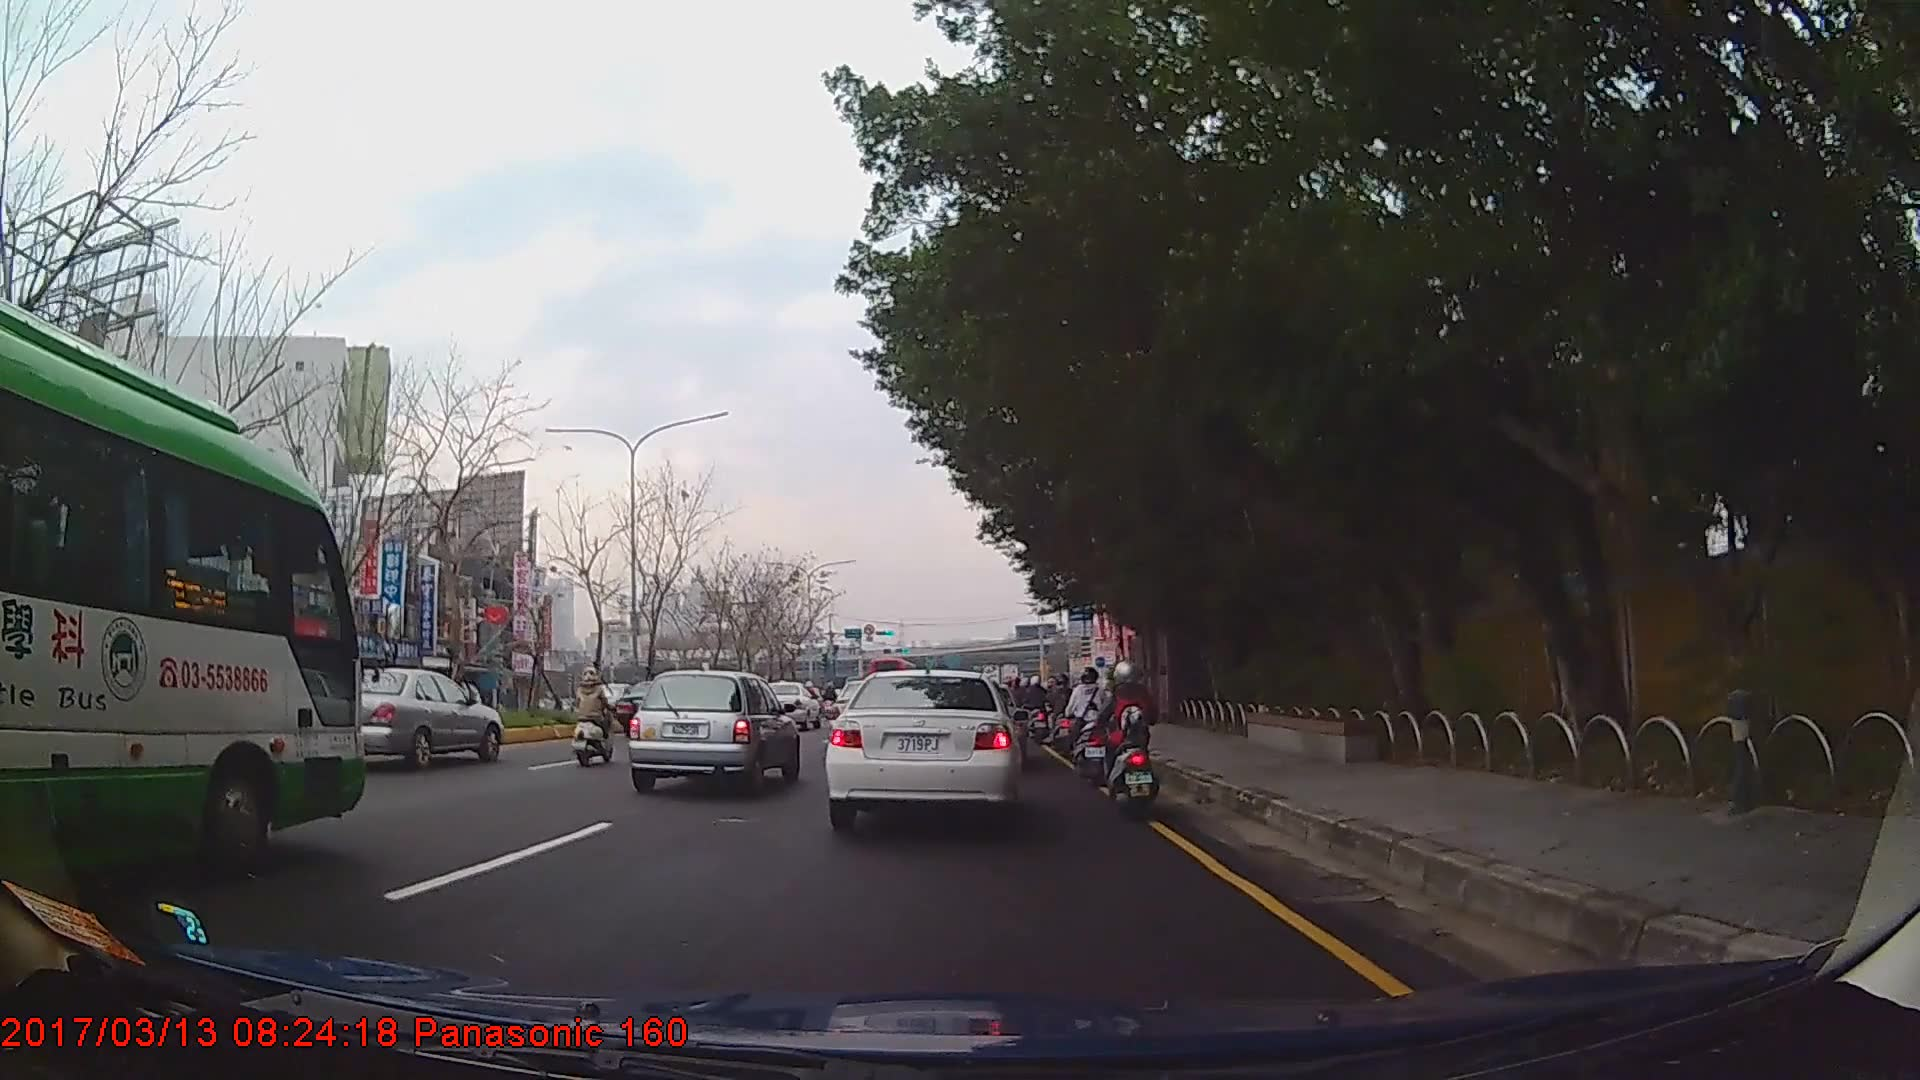rider: (1101, 663, 1162, 819), (1065, 670, 1112, 781), (580, 669, 622, 769), (1046, 673, 1074, 741)
vehicle: (0, 293, 366, 888), (821, 668, 1020, 833), (627, 667, 798, 793), (335, 667, 503, 768), (763, 678, 819, 727)
